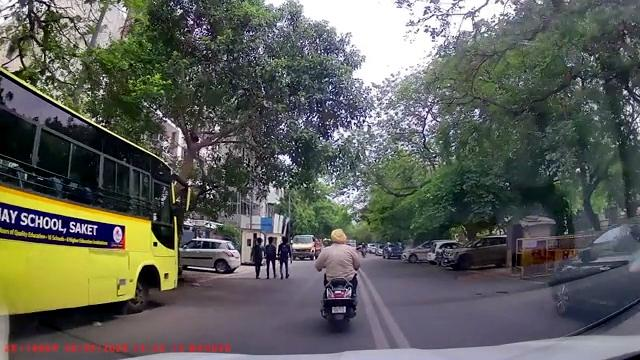motorcycle_with_helmet: (315, 227, 361, 329)
